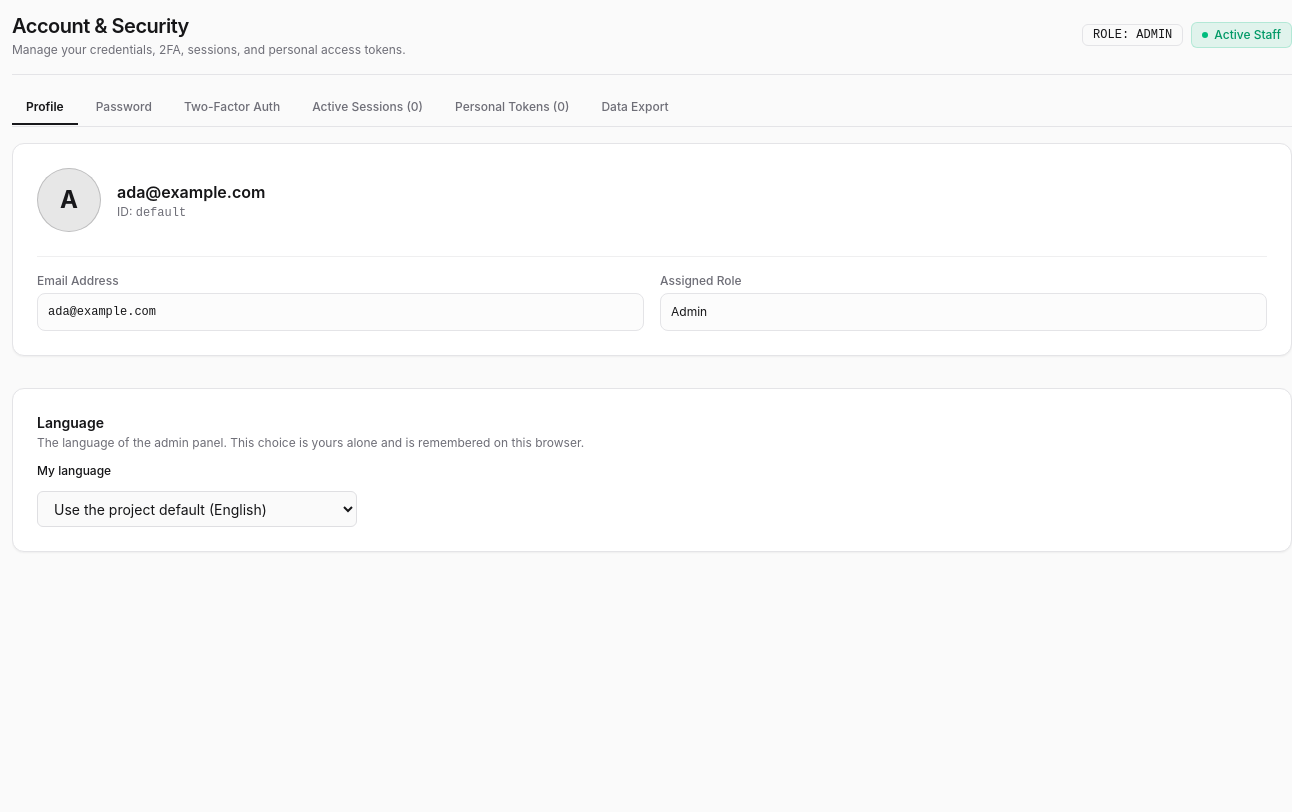
Test: AccountView › changes the password successfully
Step 1. Click the button "Password" → (124, 108), box [82,91,166,125]
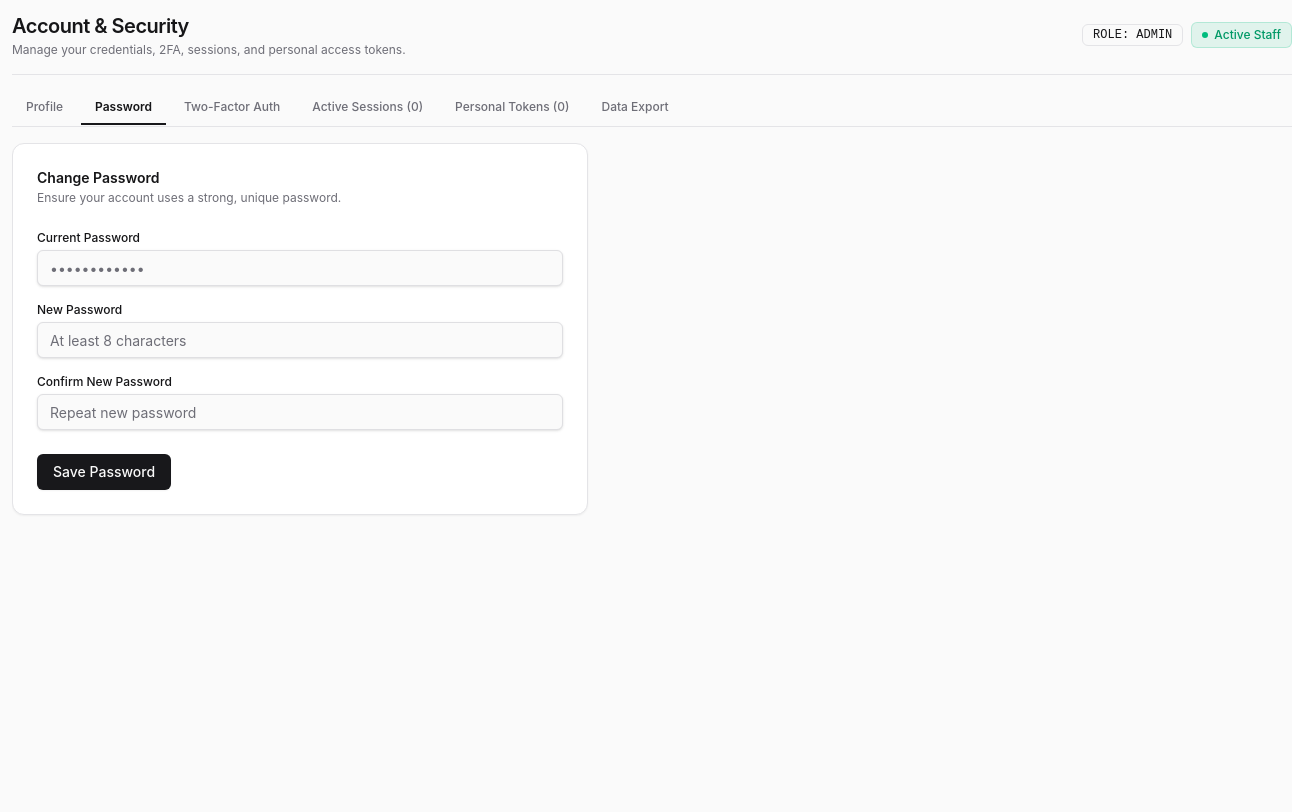
Step 2. Type "oldpass1" into the password field labelled "Current Password" → (300, 268), box [37,250,563,286]
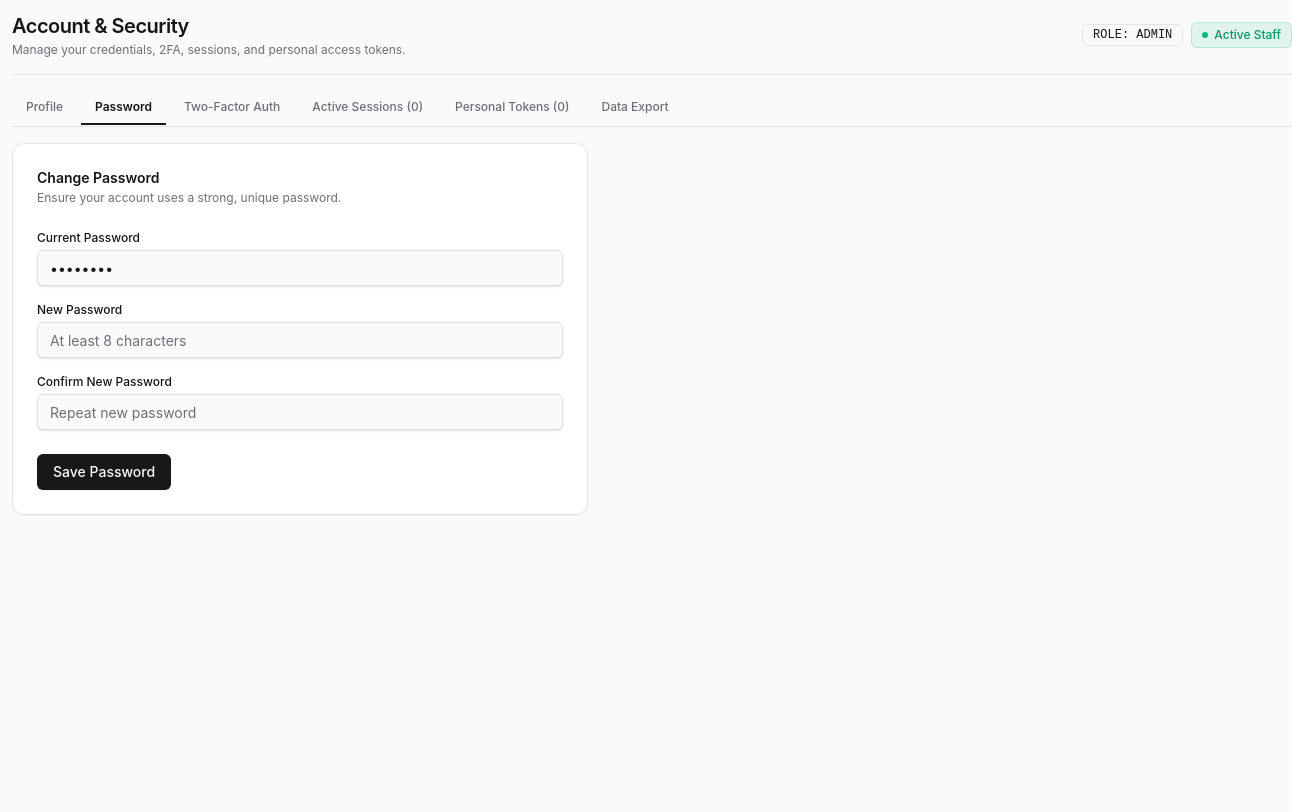
Step 3. Type "newpassword1" into the password field labelled "New Password" → (300, 340), box [37,322,563,358]
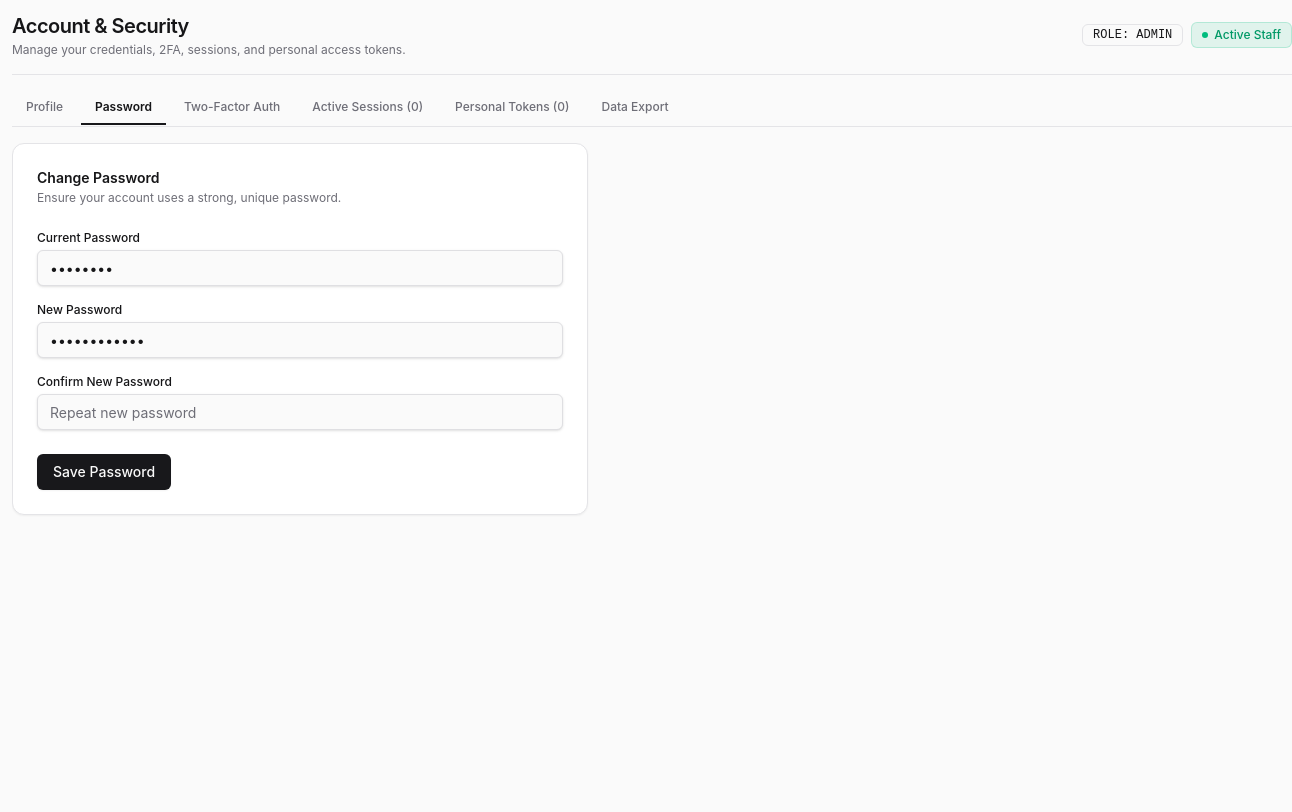
Step 4. Type "newpassword1" into the password field labelled "Confirm New Password" → (300, 412), box [37,394,563,430]
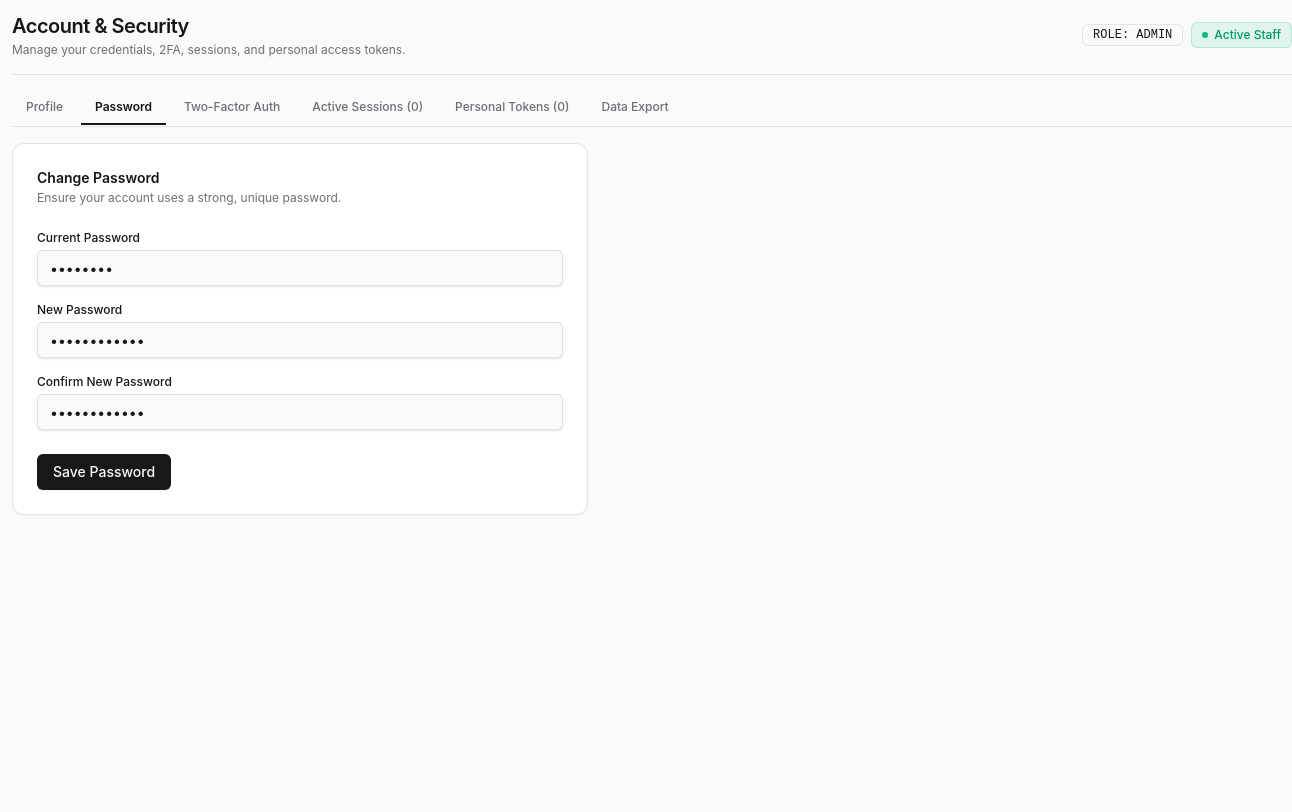
Step 5. Click the button "Save Password" → (104, 472), box [37,454,171,490]
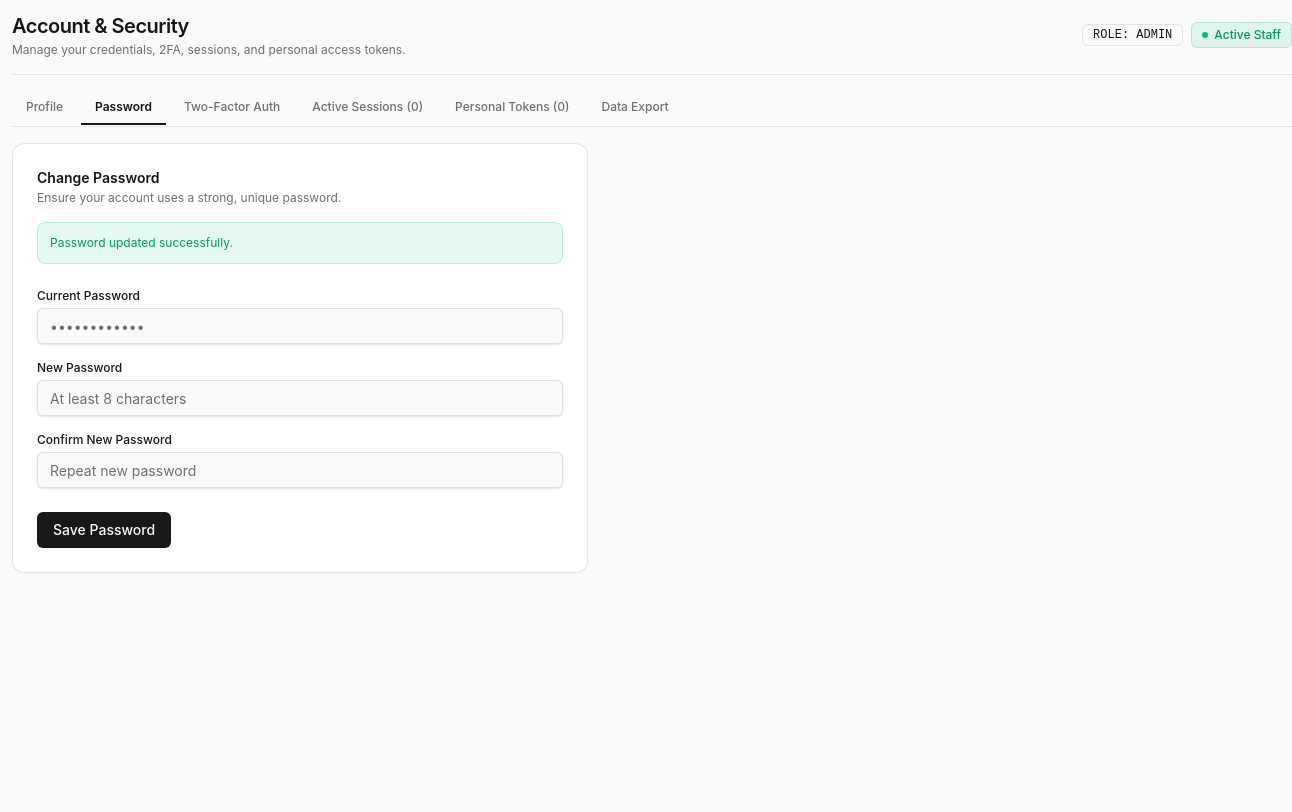
Expected: the text "Password updated successfully." is shown, [37,222,563,264]
